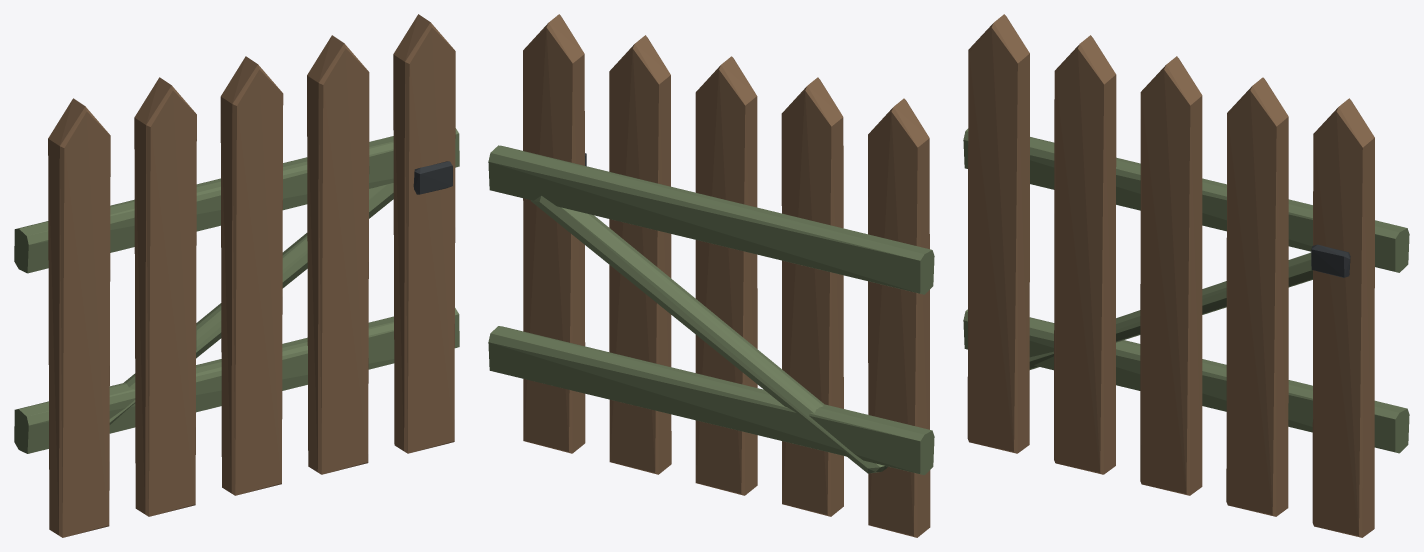
The model's file is SM_Kit_Fence_Picket_Gate_LOD1.glb.
3 views of the same model, side by side, from view 1: azimuth 30°, elevation 25°; view 2: azimuth 150°, elevation 25°; view 3: azimuth 330°, elevation 25° (orthographic).
Parts seen in each view (by area): view 1: SM_Kit_Fence_Picket_Gate_LOD1; view 2: SM_Kit_Fence_Picket_Gate_LOD1; view 3: SM_Kit_Fence_Picket_Gate_LOD1.
Boxes of the visible parts, x1=… form: SM_Kit_Fence_Picket_Gate_LOD1: x1=14, y1=14, x2=459, y2=537; SM_Kit_Fence_Picket_Gate_LOD1: x1=488, y1=14, x2=934, y2=537; SM_Kit_Fence_Picket_Gate_LOD1: x1=963, y1=14, x2=1409, y2=537.
Bounding box in the file's own units: 1 × 0.9428 × 0.1481.
